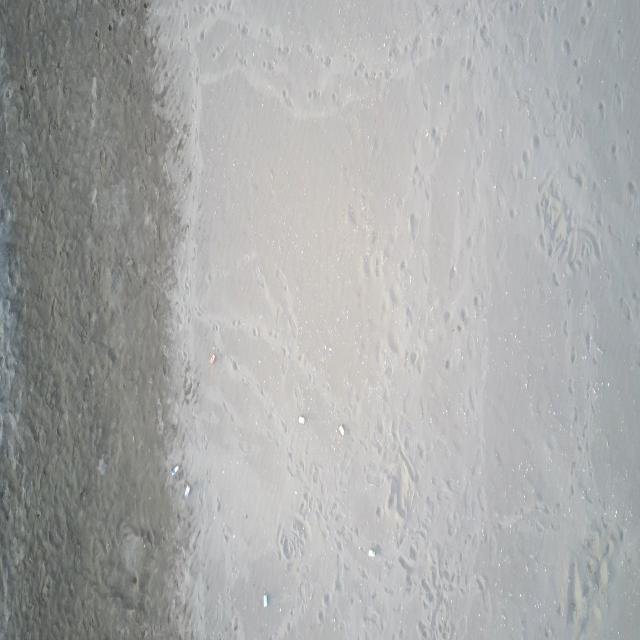tin-and-aluminum-cans: (338, 423, 346, 438), (170, 465, 180, 476), (184, 484, 191, 498), (263, 592, 268, 610), (368, 547, 376, 558), (298, 415, 305, 425), (211, 354, 216, 366)
